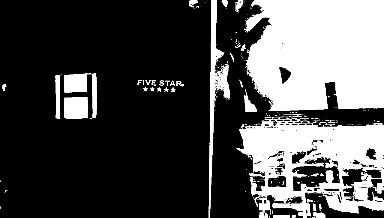H: (53, 72, 98, 117)
